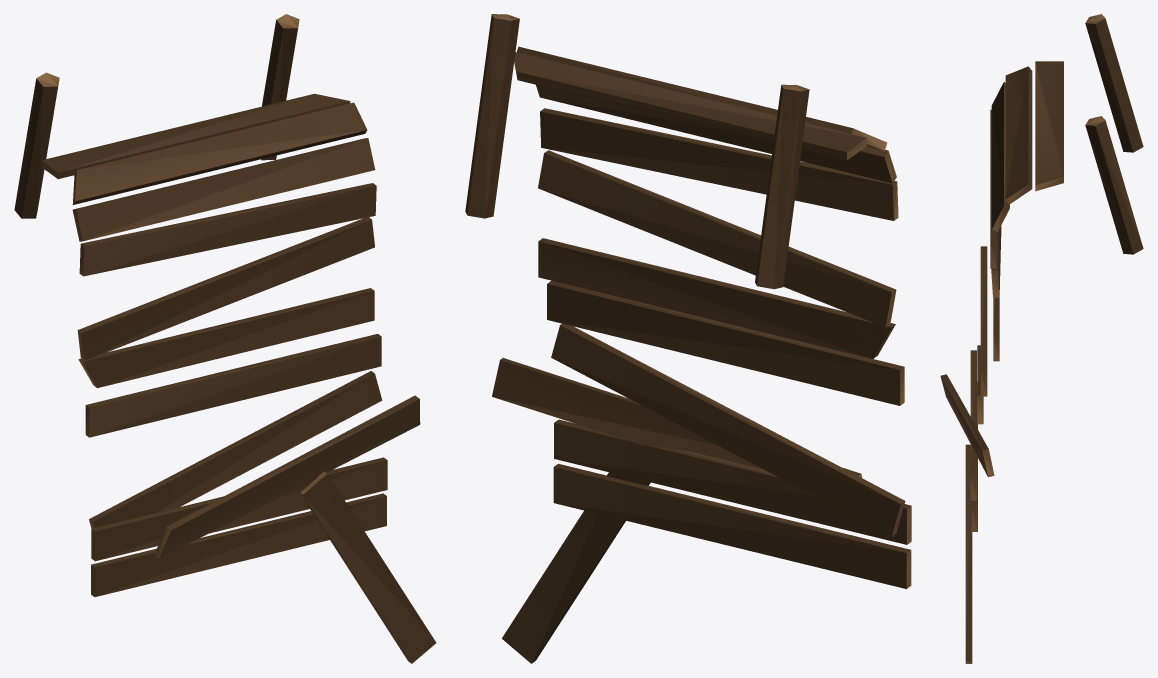
The model's file is Bridge_3B_Lod1.fbx.
3 views of the same model, side by side, from view 1: azimuth 30°, elevation 25°; view 2: azimuth 150°, elevation 25°; view 3: azimuth 270°, elevation 25° (orthographic). The views are drawn at different scales.
Visible parts, largest first — view 1: polySurface603; view 2: polySurface603; view 3: polySurface603.
Boxes of the visible parts, <box> form: polySurface603: <box>14,14,436,663</box>; polySurface603: <box>465,14,911,663</box>; polySurface603: <box>940,14,1143,663</box>.
Size of the model in its own units: 464 by 787 by 276.
Materials: 1 (1 with a texture image).
